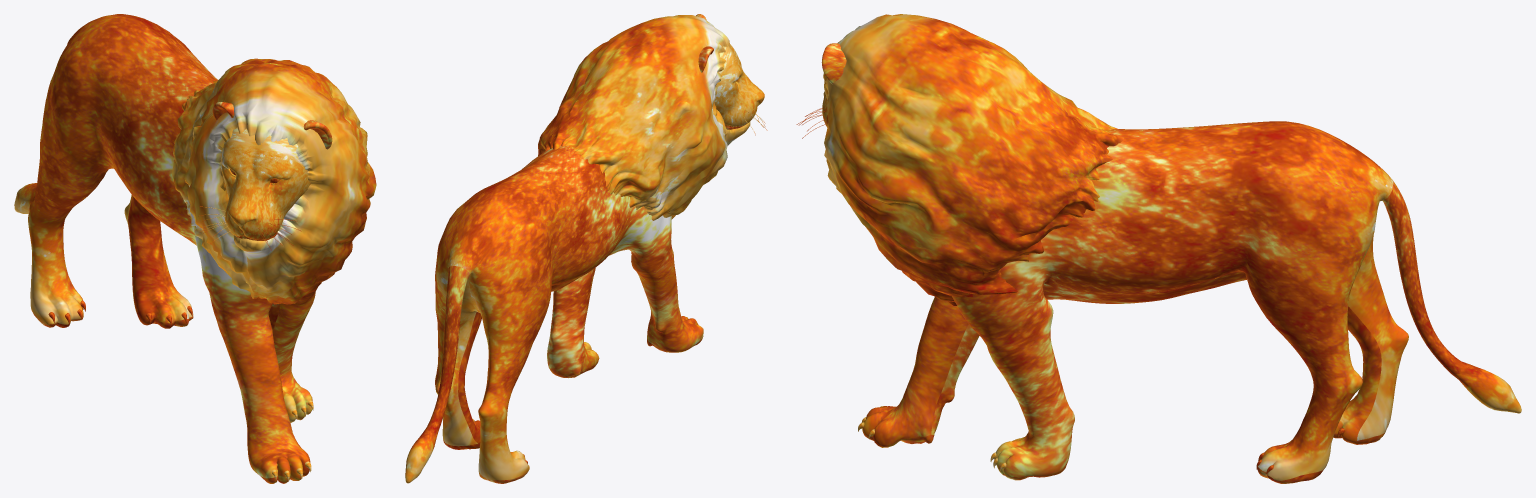
Rendered from lion.obj.
The picture shows the model from 3 angles, left to right: view 1: azimuth 30°, elevation 25°; view 2: azimuth 150°, elevation 25°; view 3: azimuth 270°, elevation 25°; orthographic projection. The views are drawn at different scales.
Visible parts, largest first — view 1: obj1; view 2: obj1; view 3: obj1.
Boxes of the visible parts, x1=… form: obj1: x1=14, y1=14, x2=376, y2=483; obj1: x1=405, y1=14, x2=767, y2=483; obj1: x1=796, y1=14, x2=1521, y2=483.
Size of the model in its own units: 0.1227 by 0.2328 by 0.364.
